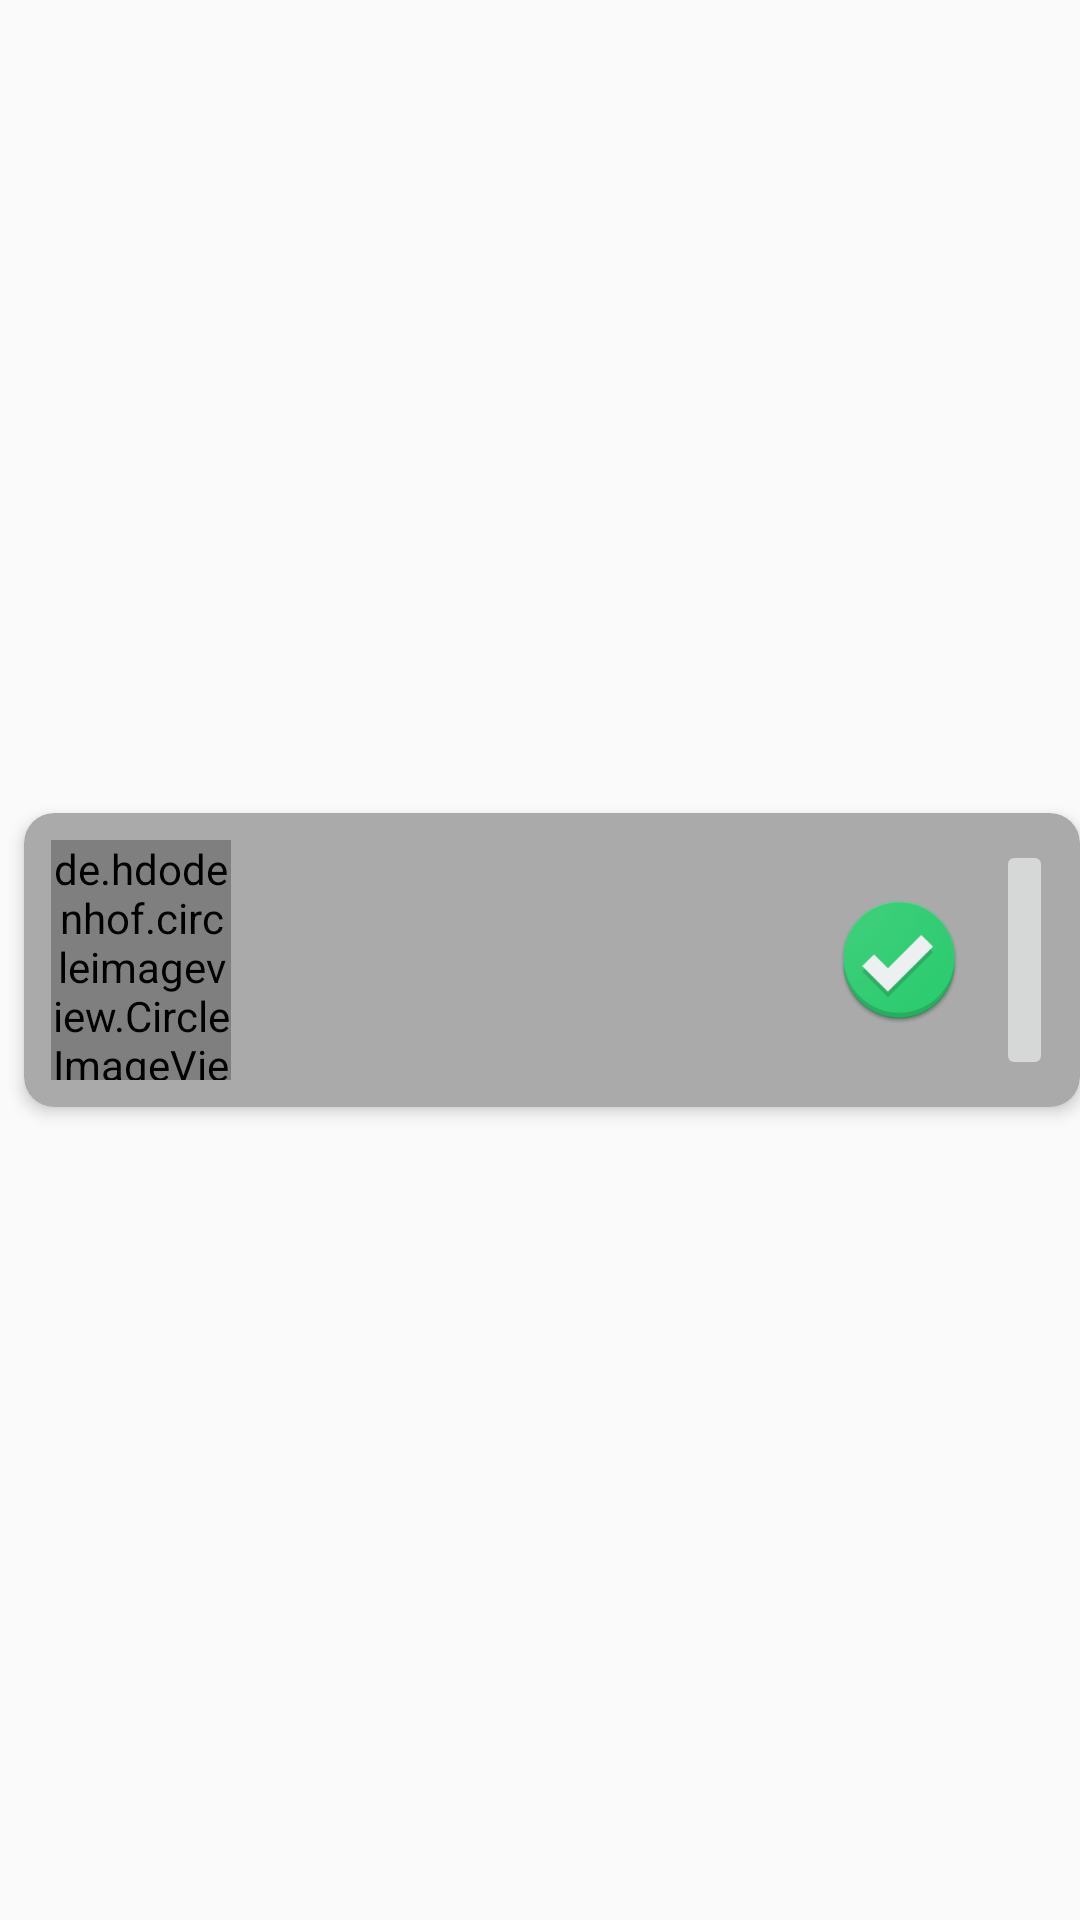

Icons on this 1080px×1920px Android screen, each with the point to tap as (x=x, y=y):
check: (x=899, y=961)
